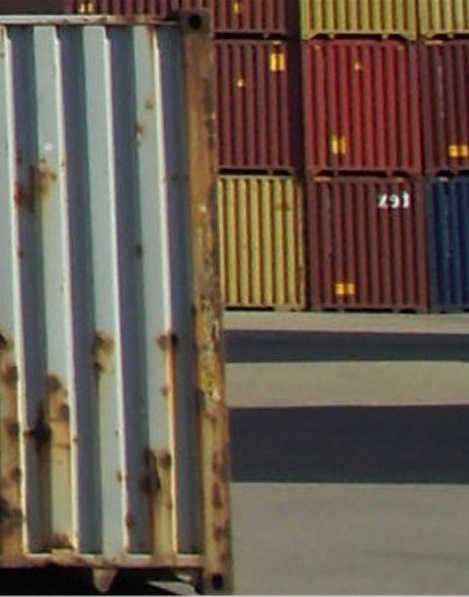container_no_door: (2, 7, 235, 595), (300, 35, 422, 178), (303, 178, 423, 314), (211, 35, 298, 179), (217, 178, 305, 313)
